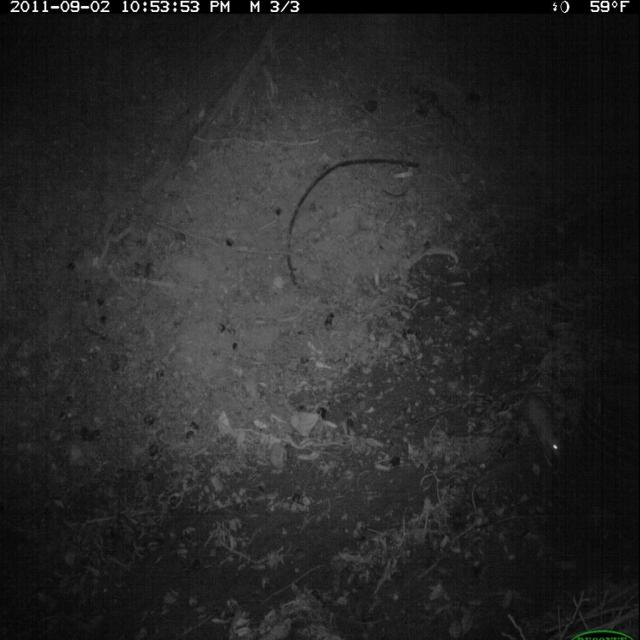opossum: (506, 378, 581, 482)
